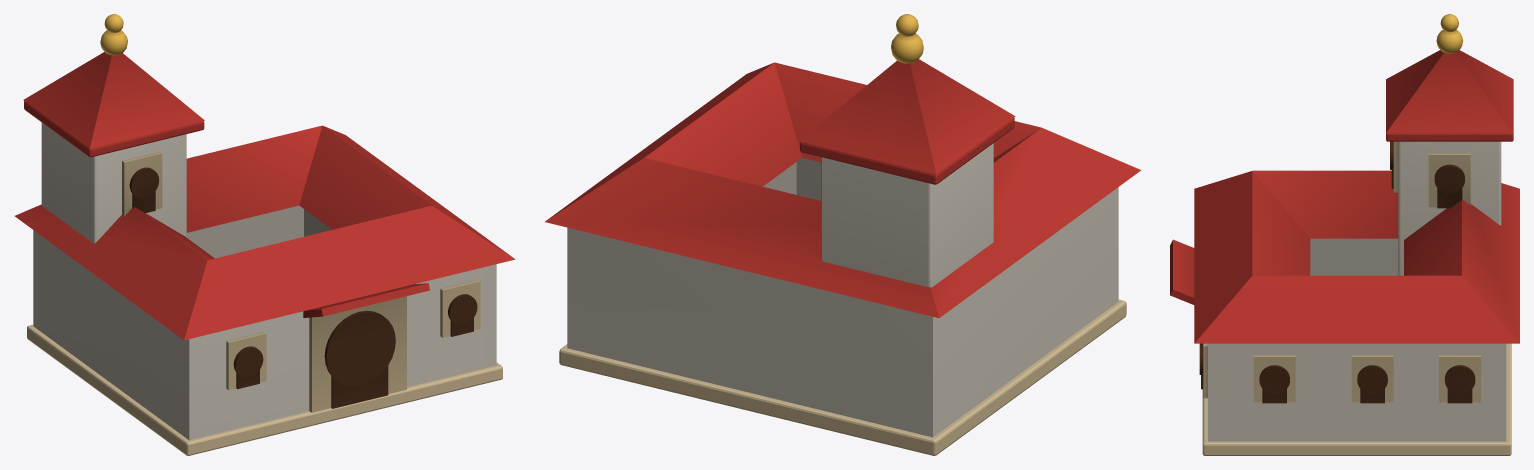
Rendered from riad.glb.
3 views of the same model, side by side, from view 1: azimuth 30°, elevation 25°; view 2: azimuth 150°, elevation 25°; view 3: azimuth 270°, elevation 25° (orthographic). The views are drawn at different scales.
Visible parts, largest first — view 1: Walls; view 2: Walls; view 3: Walls.
Boxes of the visible parts, x1,y1,x2,y2 form: Walls: (14,14,515,455); Walls: (545,14,1141,455); Walls: (1170,14,1519,455).
Size of the model in its own units: 3.56 by 3.43 by 3.4.
